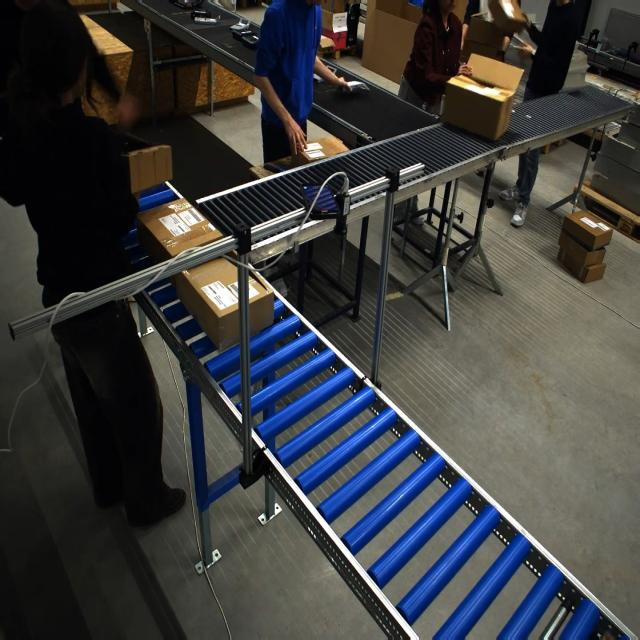box: (175, 255, 273, 351), (439, 51, 523, 141), (135, 198, 223, 267), (121, 144, 173, 197), (294, 137, 346, 171)
product: (342, 80, 369, 94), (232, 28, 255, 44), (229, 24, 251, 34), (191, 10, 212, 20), (193, 17, 219, 24), (313, 73, 324, 83)
